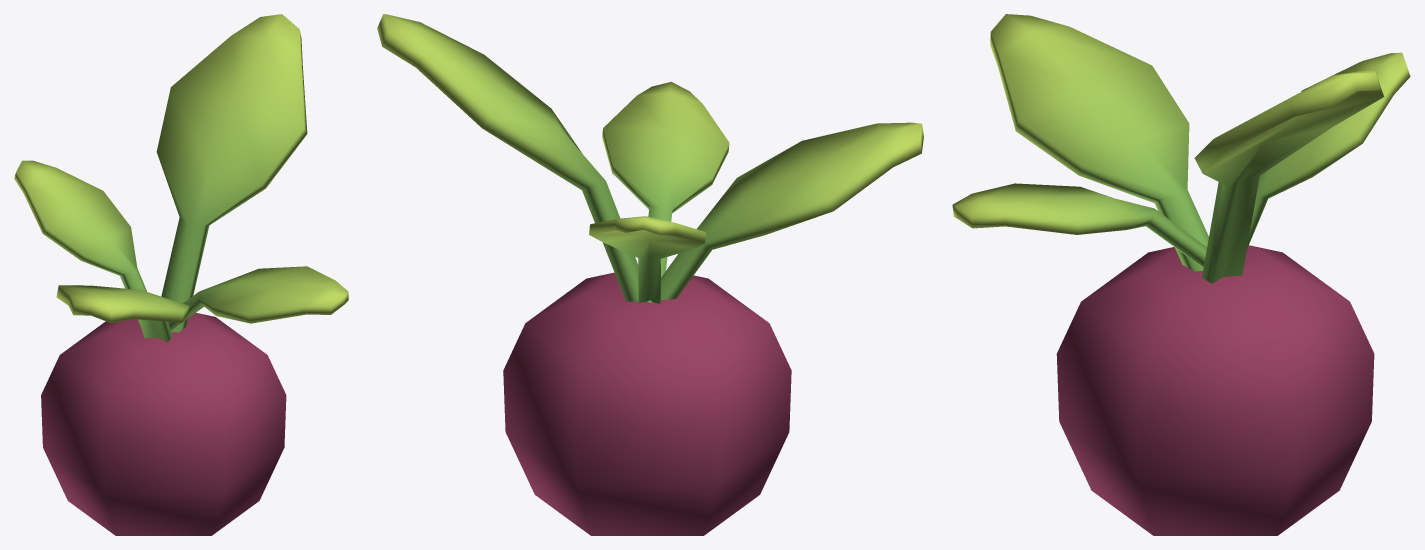
File: beet.fbx
3 renders of one model, left to right at view 1: azimuth 30°, elevation 25°; view 2: azimuth 150°, elevation 25°; view 3: azimuth 270°, elevation 25°, orthographic. The views are drawn at different scales.
Visible parts, largest first — view 1: beet; view 2: beet; view 3: beet.
Boxes of the visible parts, <box> form: beet: <box>14,14,348,535</box>; beet: <box>377,14,923,535</box>; beet: <box>952,14,1410,535</box>.
Bounding box in the file's own units: 0.4109 × 0.4838 × 0.3655.
Materials: 1 (1 with a texture image).
